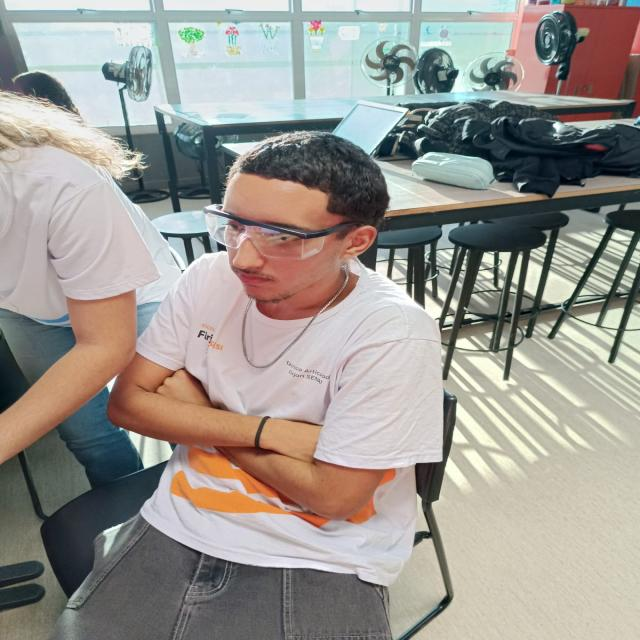oculos-epi: (202, 201, 368, 260)
